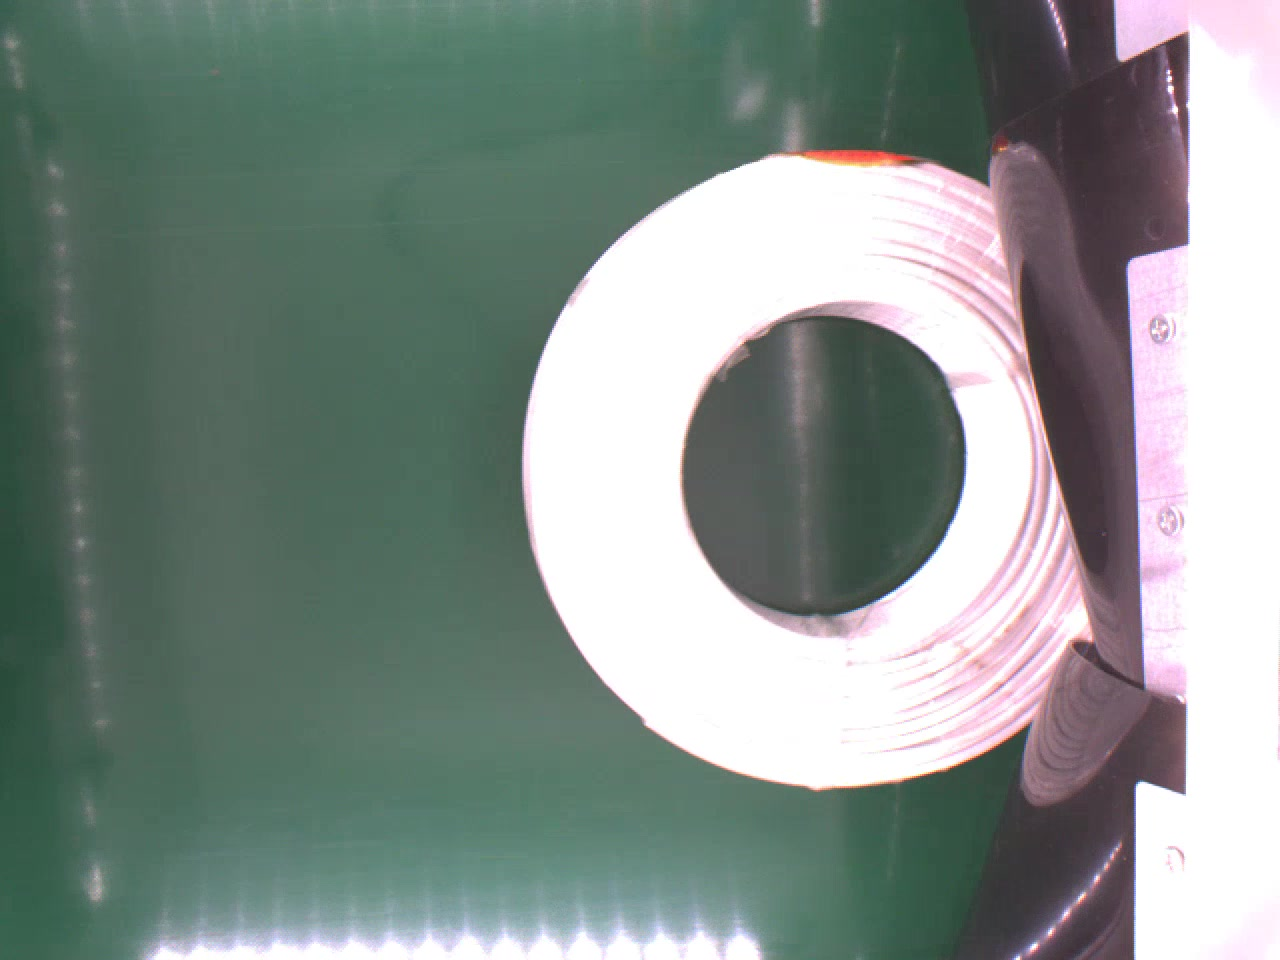white: (520, 147, 1091, 792)
